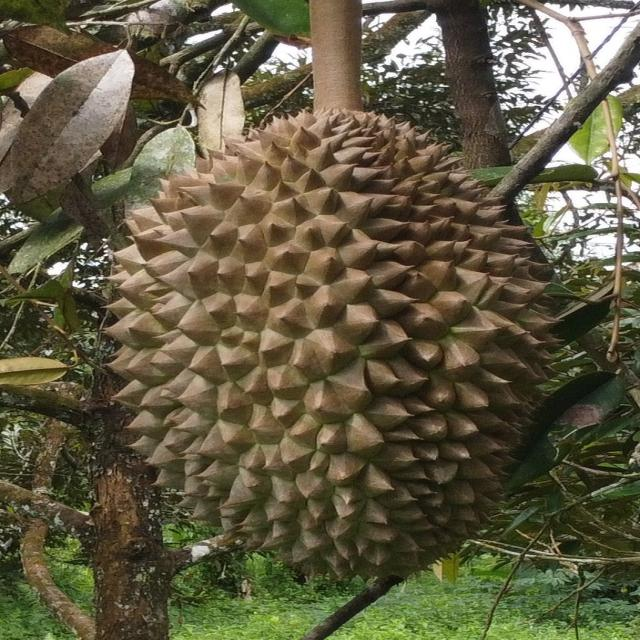mature: (105, 110, 556, 576)
